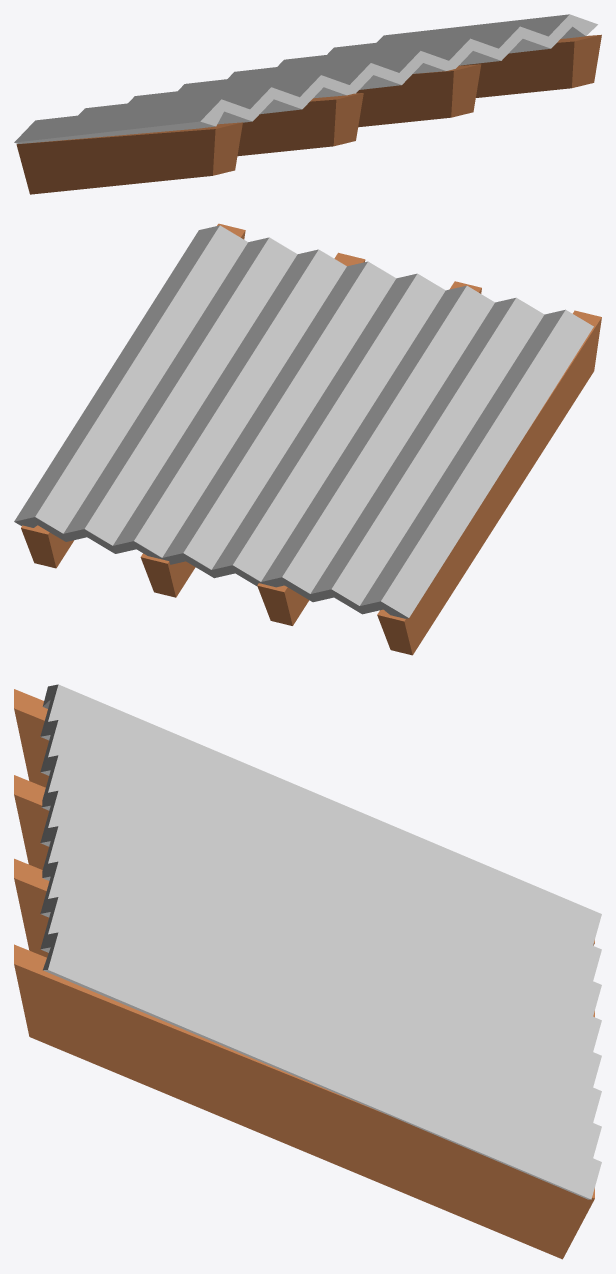
The model's file is iron_roof.fbx.
The picture shows the model from 3 angles, top to bottom: view 1: azimuth 30°, elevation 25°; view 2: azimuth 150°, elevation 25°; view 3: azimuth 270°, elevation 25°; orthographic projection. The views are drawn at different scales.
Parts seen in each view (by area): view 1: iron_roof; view 2: iron_roof; view 3: iron_roof.
Part boxes in pixels (x1,y1,x2,y2): iron_roof: [14, 14, 601, 194]; iron_roof: [14, 223, 601, 655]; iron_roof: [14, 684, 601, 1259].
Size of the model in its own units: 218 by 113 by 191.
1 material, 1 textured.
